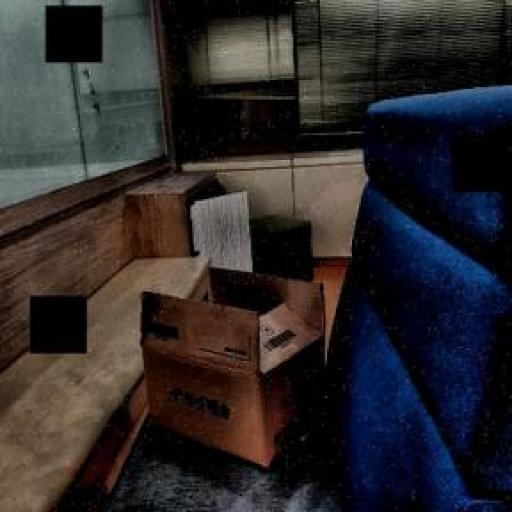box: (132, 260, 348, 476)
